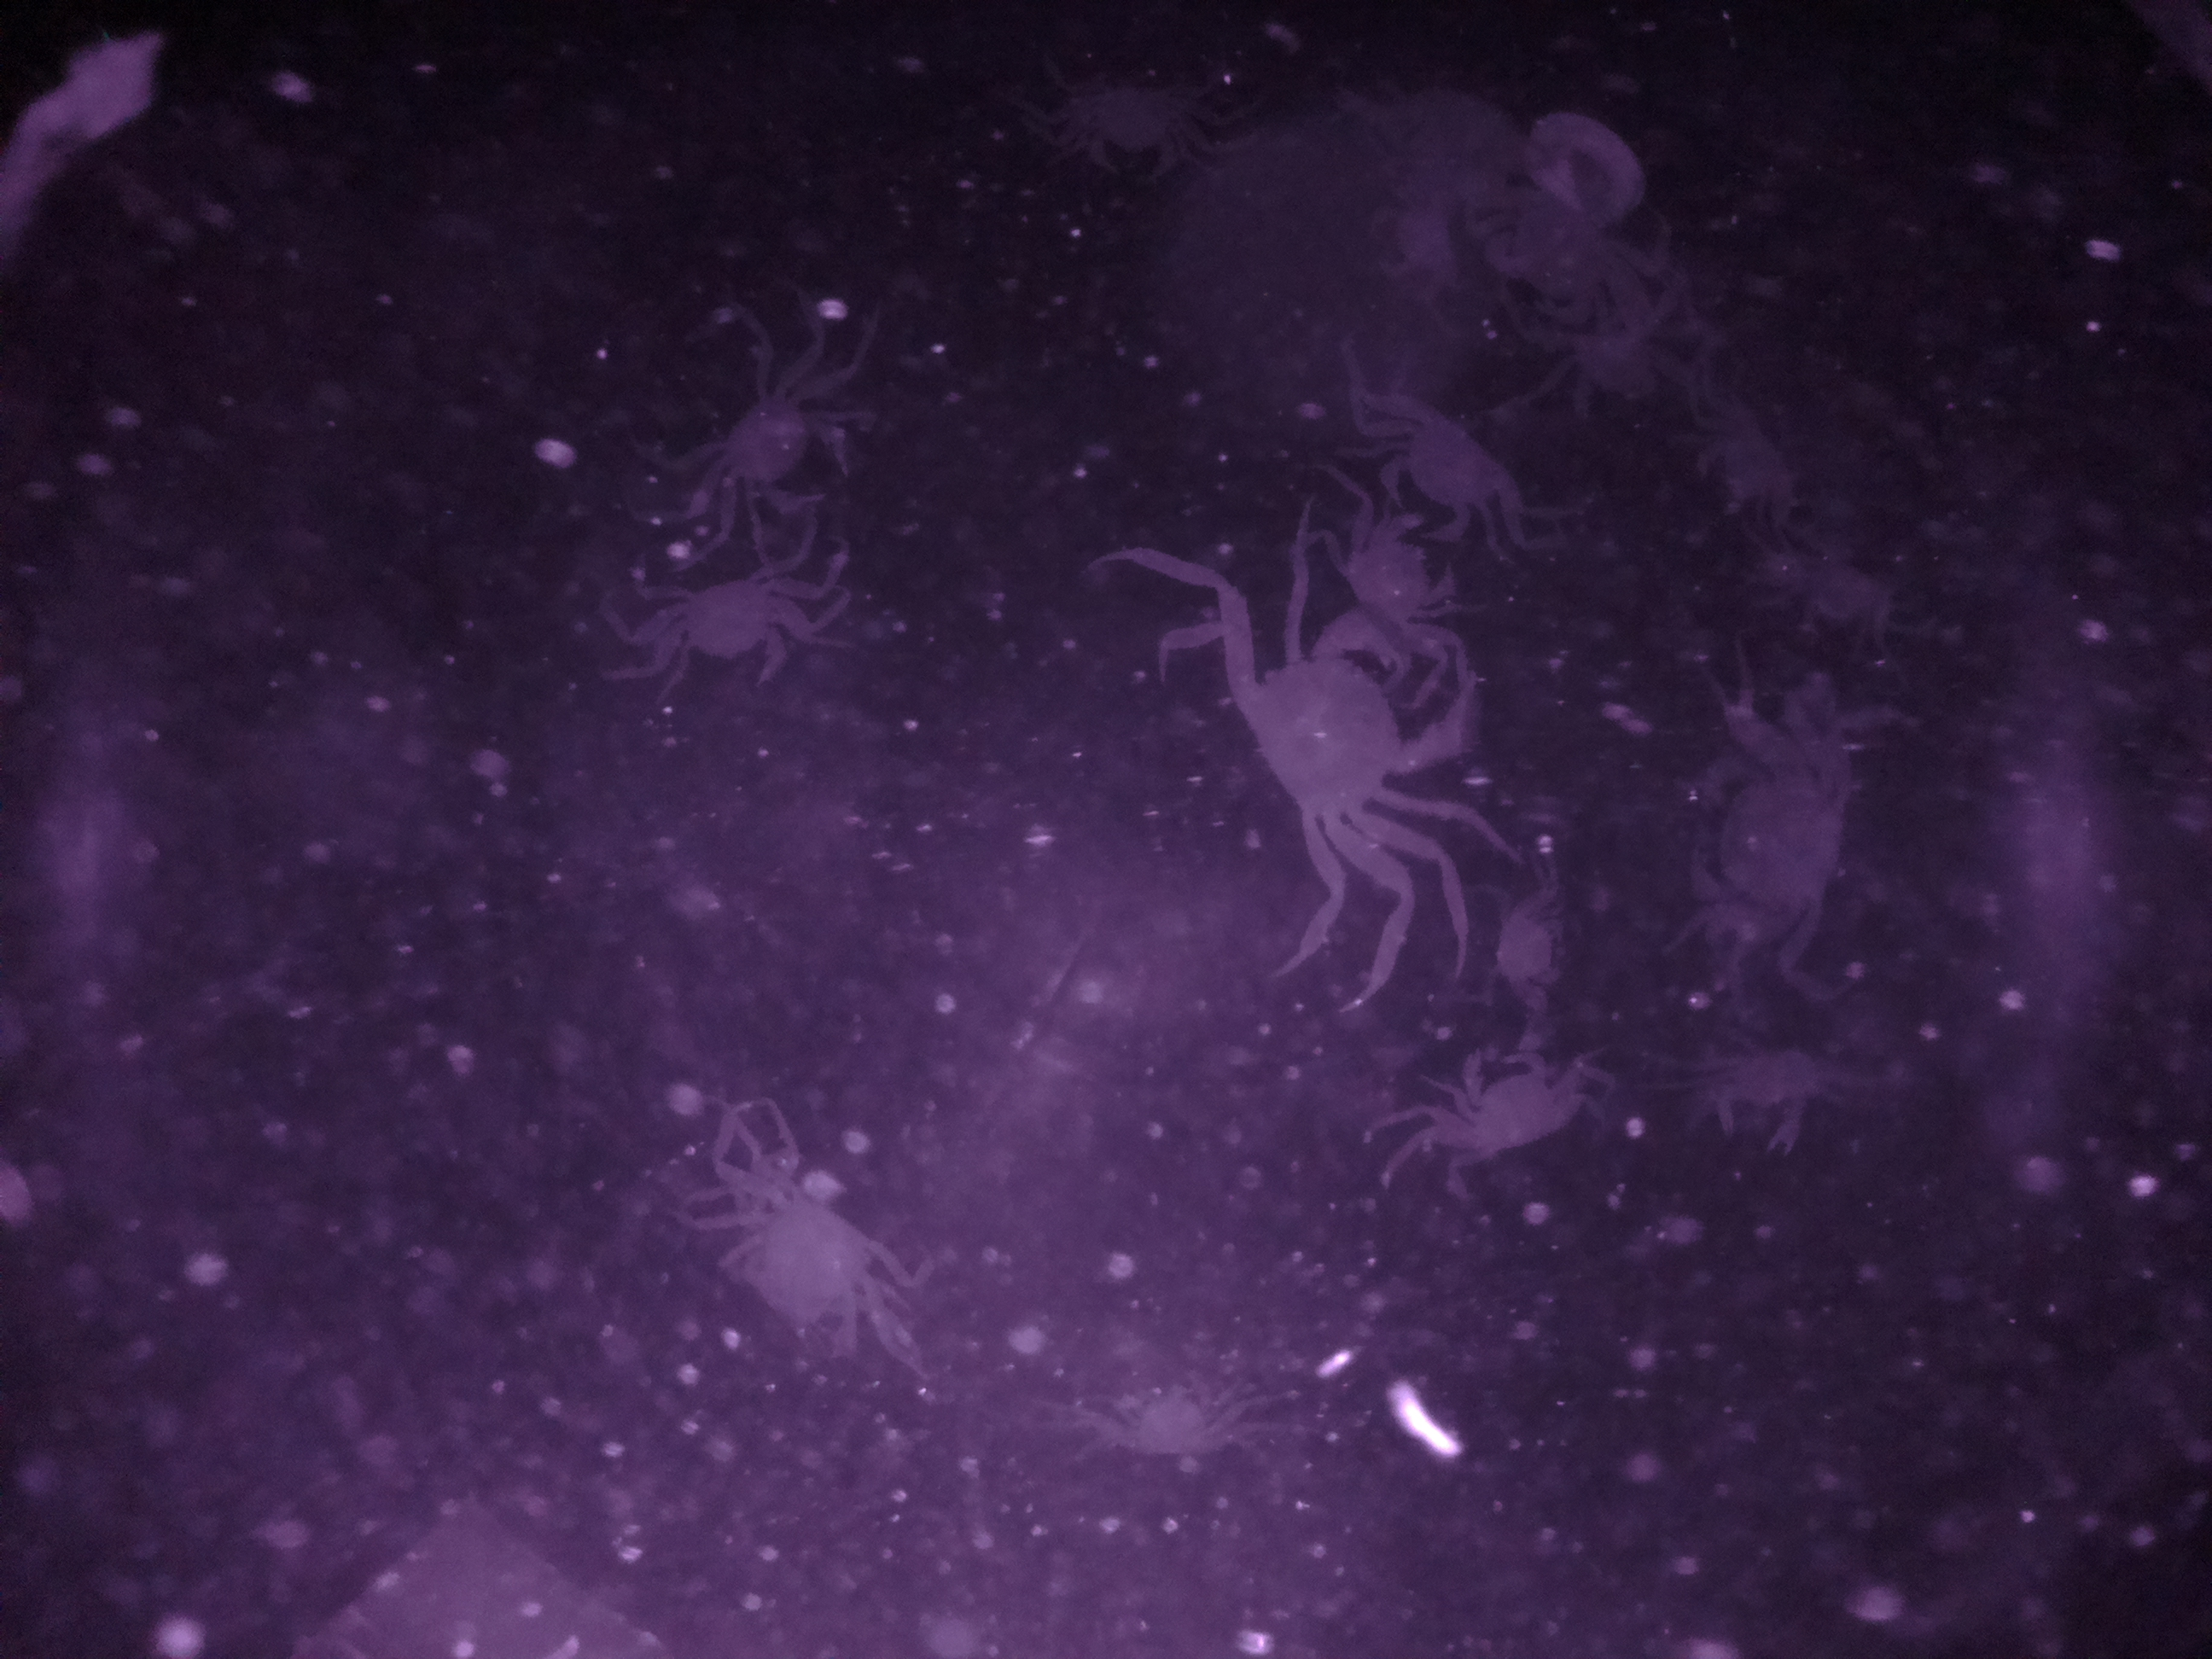Crab: (1223, 599, 1493, 882), (1359, 397, 1527, 565), (698, 373, 873, 533), (1411, 1030, 1595, 1176), (641, 554, 820, 704)
